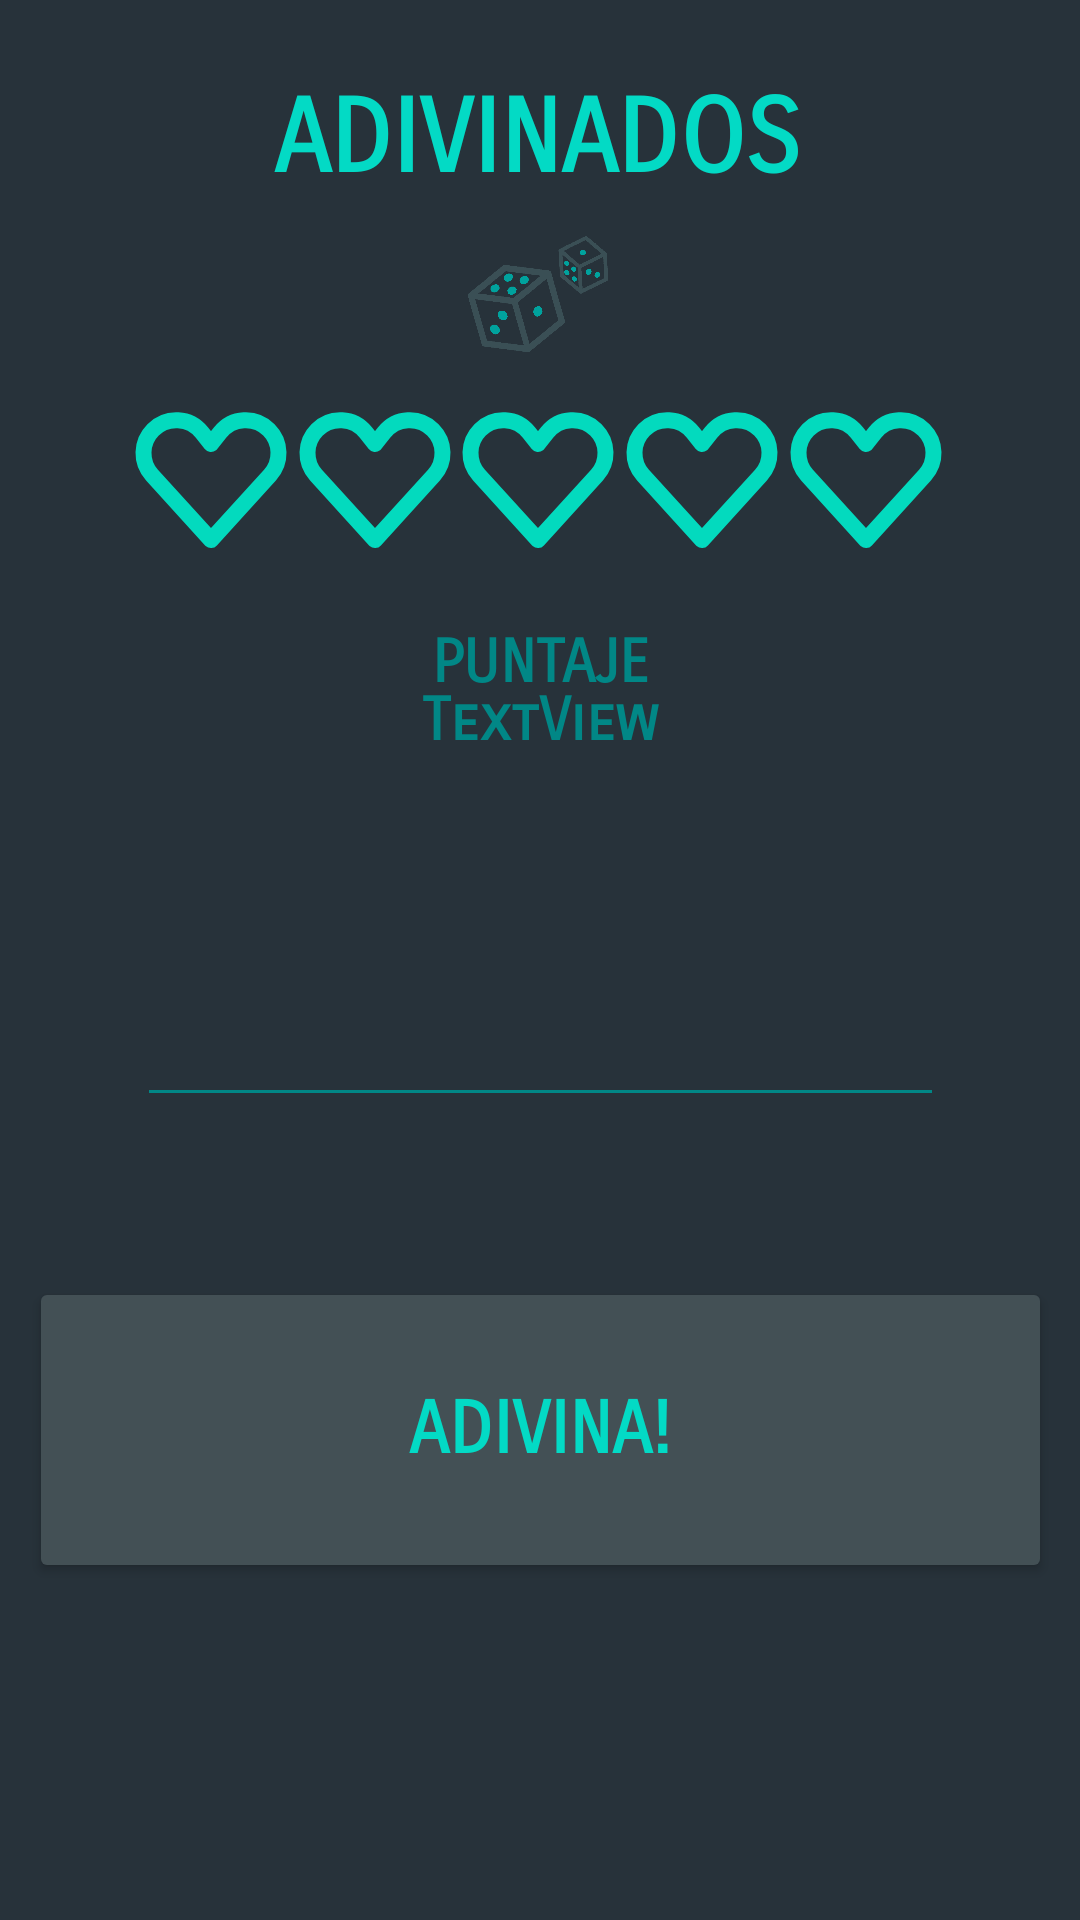

Icon bounding boxes for this 1080px x 1920px phone screenshot, format (x1, y1, x2, y2):
dados: (468, 236, 608, 352)
heart: (135, 412, 287, 548), (299, 412, 451, 548), (462, 412, 614, 548), (626, 412, 778, 548), (790, 412, 942, 548)
